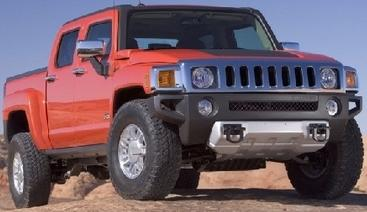front_view: (155, 52, 357, 159)
headlight: (162, 55, 219, 118)
side_glass: (47, 22, 118, 71)
